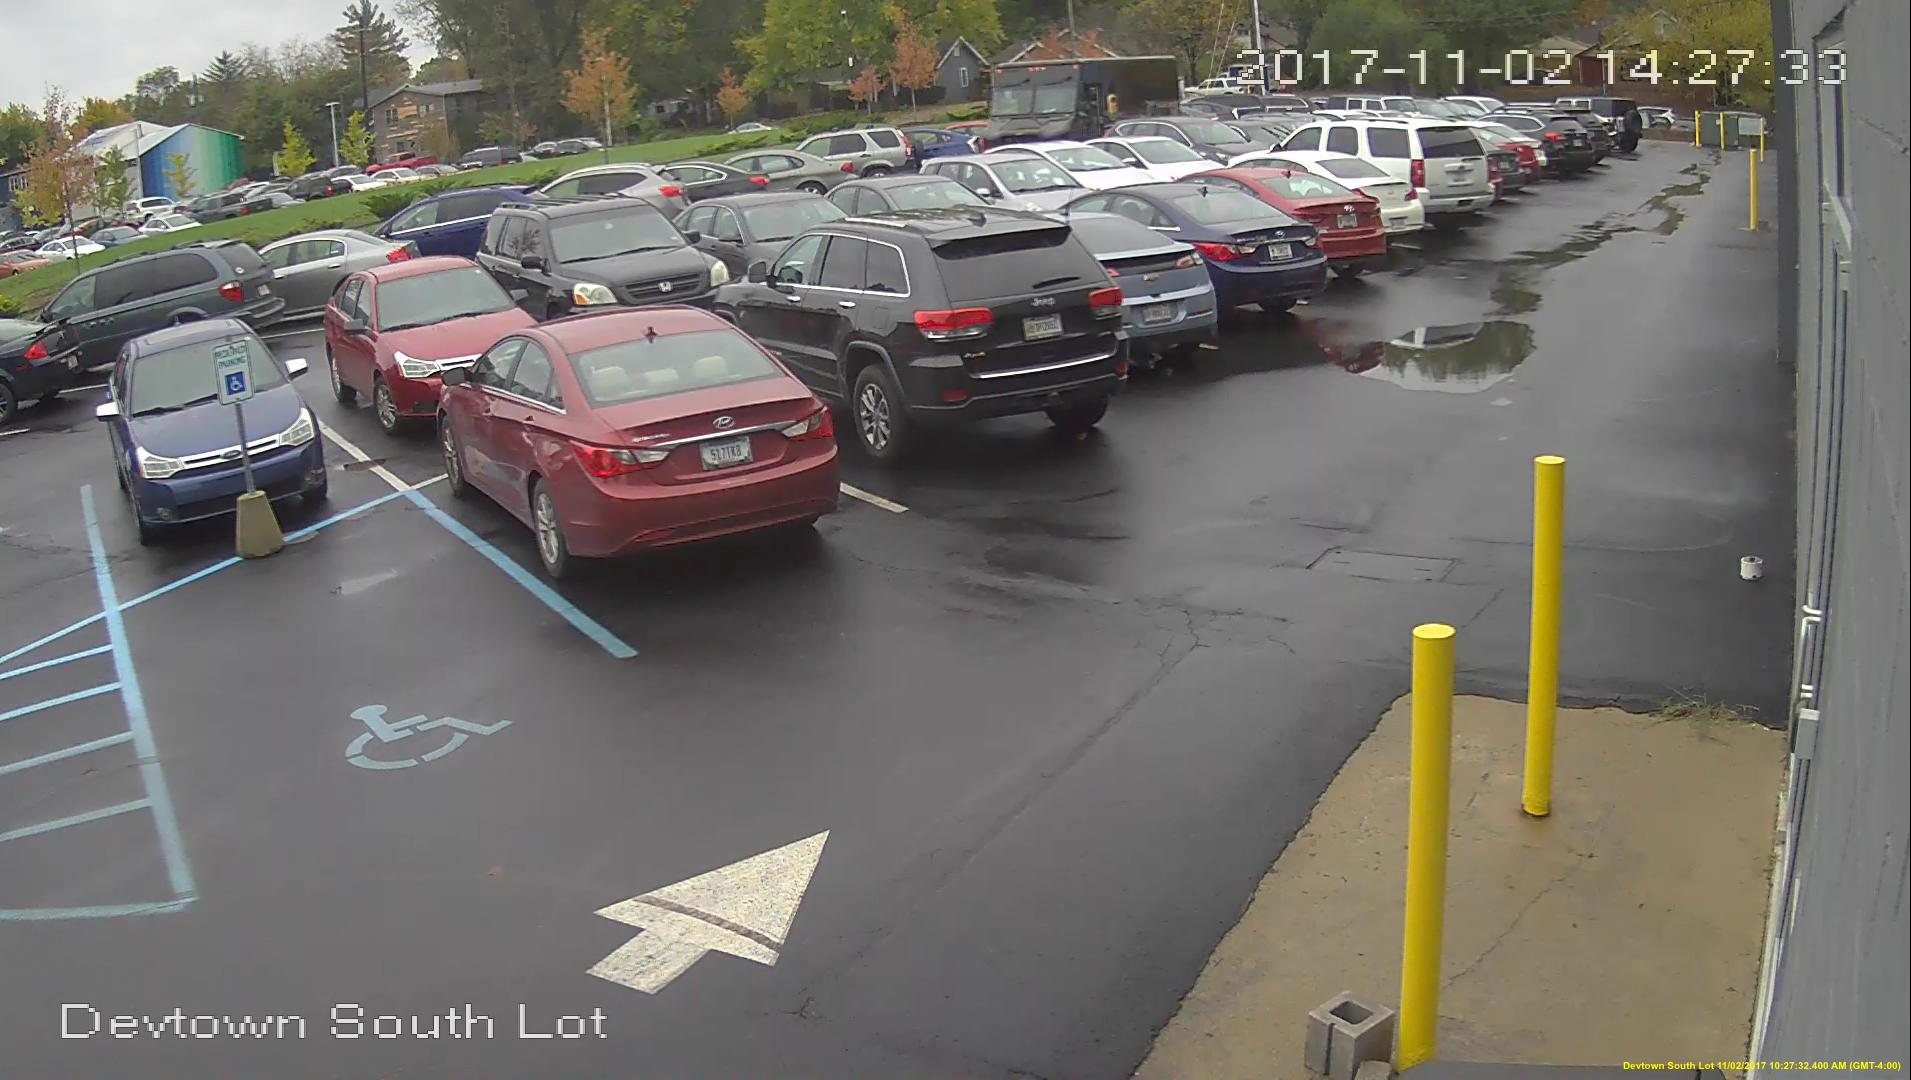ups_truck: (974, 59, 1186, 144)
